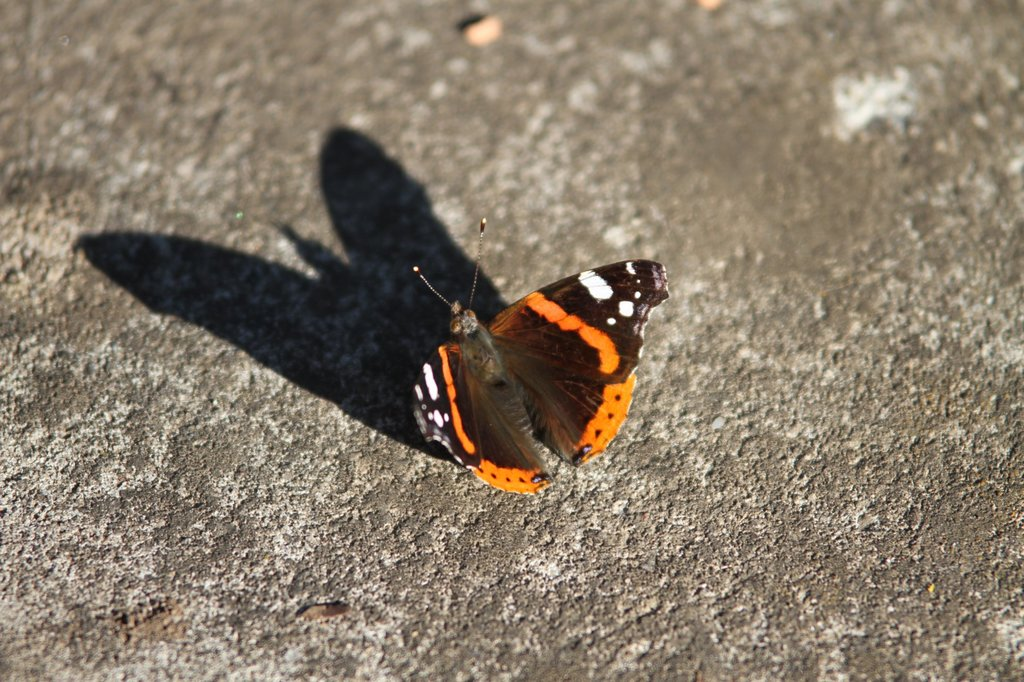Butterfly: (389, 209, 672, 524)
